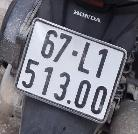0: (88, 82, 110, 118), (72, 77, 94, 111)
1: (37, 63, 59, 98), (92, 46, 111, 82)
3: (52, 68, 75, 104)
5: (18, 56, 41, 91)
6: (39, 27, 60, 62)
7: (52, 31, 75, 66)
L: (76, 39, 98, 78)
